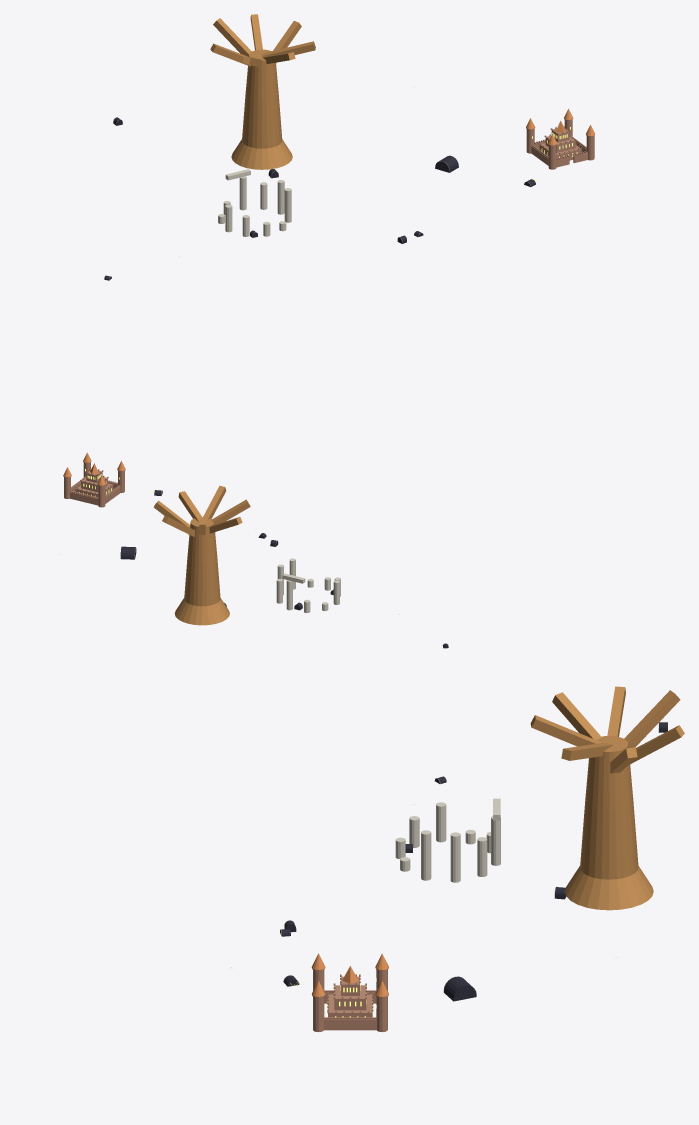
Rendered from Floor1_Landmark_Blockouts.fbx.
3 views of the same model, one above another, from view 1: azimuth 30°, elevation 25°; view 2: azimuth 150°, elevation 25°; view 3: azimuth 270°, elevation 25° (orthographic). The views are drawn at different scales.
Parts seen in each view (by area): view 1: Landmark_Ruins_Pillars__F1_Ruins_Stone, Landmark_World_Tree_Trunk_2__Trunk, Landmark_World_Tree_Trunk_3__Trunk, Landmark_World_Tree_Trunk_1__Trunk; view 2: Landmark_World_Tree_Trunk_2__Trunk, Landmark_Ruins_Pillars__F1_Ruins_Stone, Landmark_World_Tree_Trunk_3__Trunk, Landmark_World_Tree_Trunk_1__Trunk, Landmark_World_Tree_Limbs__Trunk_9, Landmark_World_Tree_Limbs__Trunk_15; view 3: Landmark_World_Tree_Trunk_2__Trunk, Landmark_Ruins_Pillars__F1_Ruins_Stone, Landmark_World_Tree_Trunk_1__Trunk, Landmark_World_Tree_Trunk_3__Trunk, Landmark_World_Tree_Limbs__Trunk_12, Landmark_World_Tree_Limbs__Trunk_1, Landmark_World_Tree_Limbs__Trunk_9, Landmark_Fortress_Wall_5__Fortress_Stone, Landmark_Fortress_Keep_Tier_2__Fortress_Stone.
Part boxes in pixels (bbox=[...]): Landmark_Ruins_Pillars__F1_Ruins_Stone: bbox=[218, 169, 291, 236]; Landmark_World_Tree_Trunk_2__Trunk: bbox=[242, 95, 282, 148]; Landmark_World_Tree_Trunk_3__Trunk: bbox=[245, 49, 278, 101]; Landmark_World_Tree_Trunk_1__Trunk: bbox=[231, 139, 292, 169]; Landmark_World_Tree_Trunk_2__Trunk: bbox=[184, 558, 220, 606]; Landmark_Ruins_Pillars__F1_Ruins_Stone: bbox=[276, 558, 340, 612]; Landmark_World_Tree_Trunk_3__Trunk: bbox=[187, 517, 217, 564]; Landmark_World_Tree_Trunk_1__Trunk: bbox=[174, 598, 229, 625]; Landmark_World_Tree_Limbs__Trunk_9: bbox=[209, 499, 250, 528]; Landmark_World_Tree_Limbs__Trunk_15: bbox=[153, 491, 199, 527]; Landmark_World_Tree_Trunk_2__Trunk: bbox=[580, 802, 638, 879]; Landmark_Ruins_Pillars__F1_Ruins_Stone: bbox=[395, 798, 500, 882]; Landmark_World_Tree_Trunk_1__Trunk: bbox=[565, 866, 653, 910]; Landmark_World_Tree_Trunk_3__Trunk: bbox=[585, 736, 633, 811]; Landmark_World_Tree_Limbs__Trunk_12: bbox=[628, 694, 684, 764]; Landmark_World_Tree_Limbs__Trunk_1: bbox=[530, 695, 596, 746]; Landmark_World_Tree_Limbs__Trunk_9: bbox=[555, 686, 625, 739]; Landmark_Fortress_Wall_5__Fortress_Stone: bbox=[324, 1017, 376, 1030]; Landmark_Fortress_Keep_Tier_2__Fortress_Stone: bbox=[333, 983, 366, 1010].
Bounding box in the file's own units: 1673600 × 410099 × 1054776.
